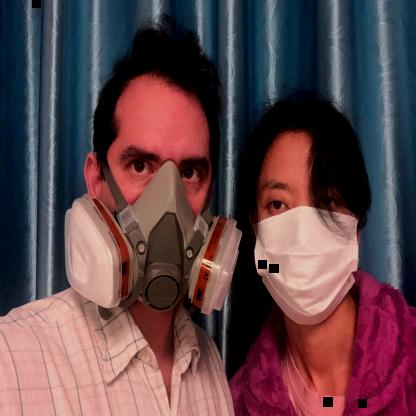mask: (62, 18, 242, 317), (243, 97, 371, 328)
